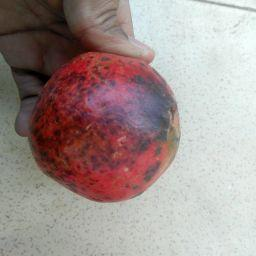pomegranate: (28, 50, 181, 203)
